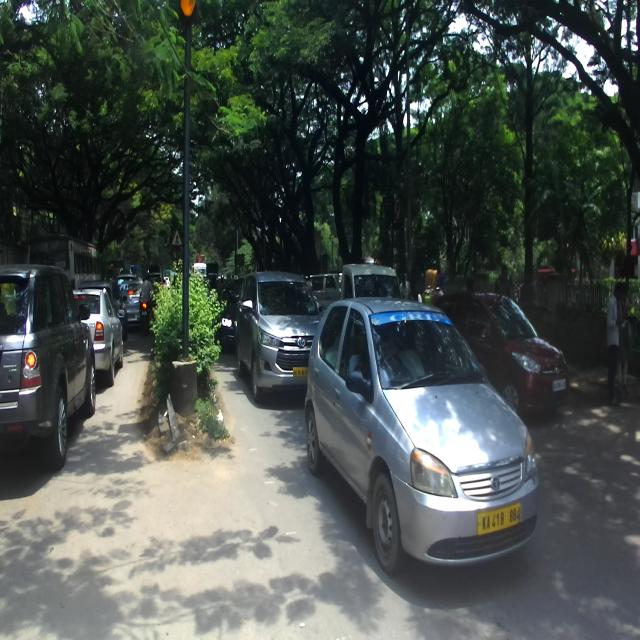car ahead at: (310, 289, 548, 582), (0, 267, 96, 465), (240, 269, 312, 397)
